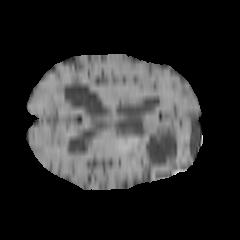glioma: (124, 97, 189, 173)
